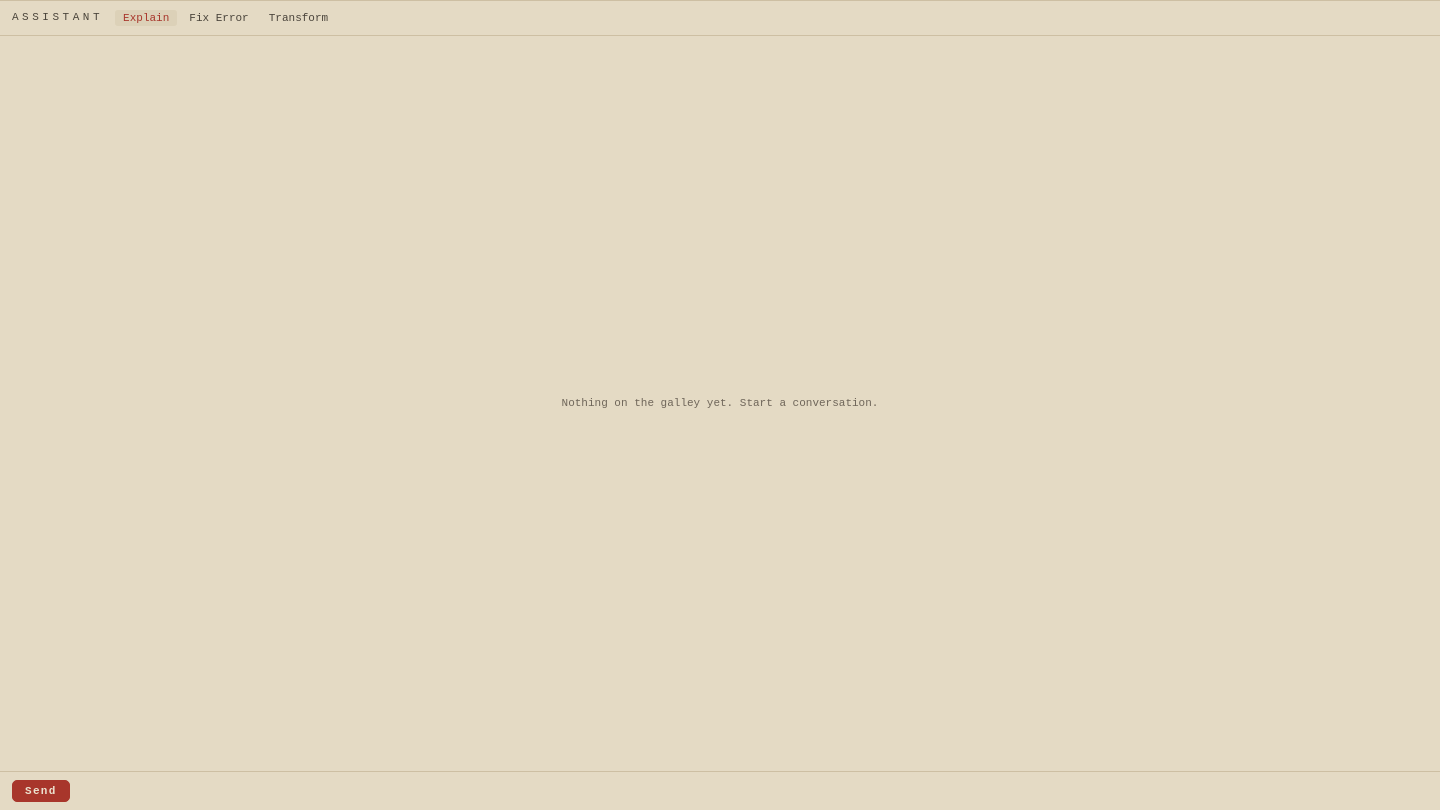
AiChatPanel — successful send › appends user and assistant messages after a successful send
The image size is (1440, 810).
Click the button "Send". click: (41, 791)
box: [12,780,70,802]
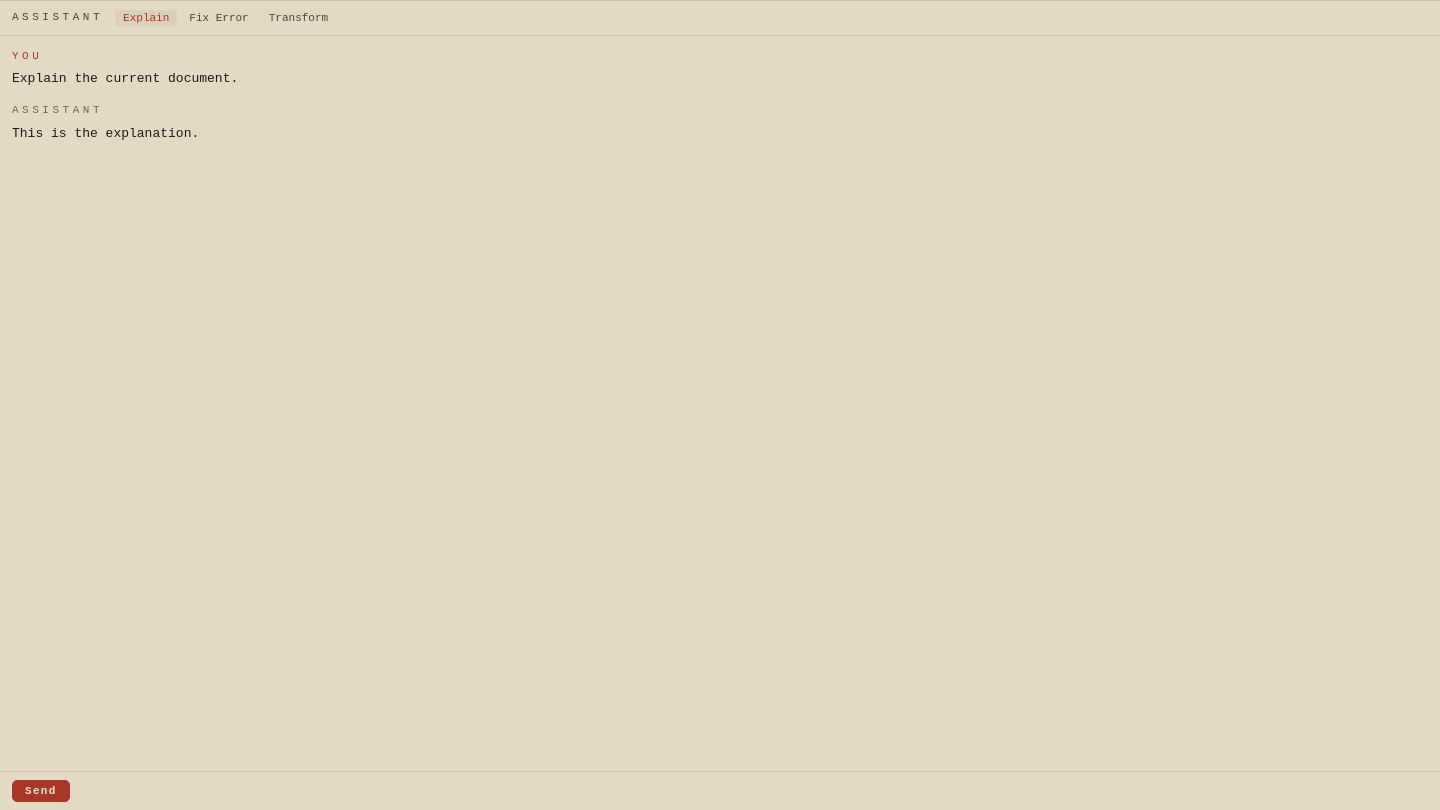
Now the text "This is the explanation." is shown, box [12,126,199,141]
Now the text "You" is shown, box [12,50,42,62]
